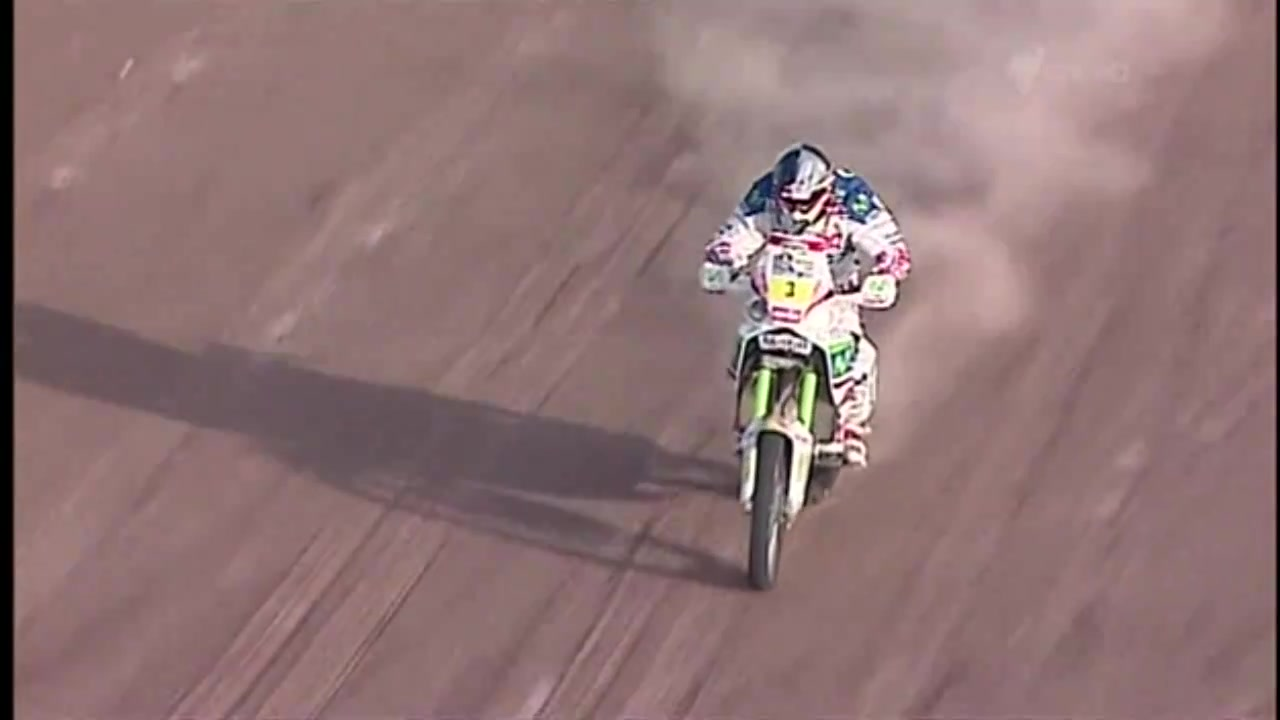motorbike: (699, 244, 901, 594)
